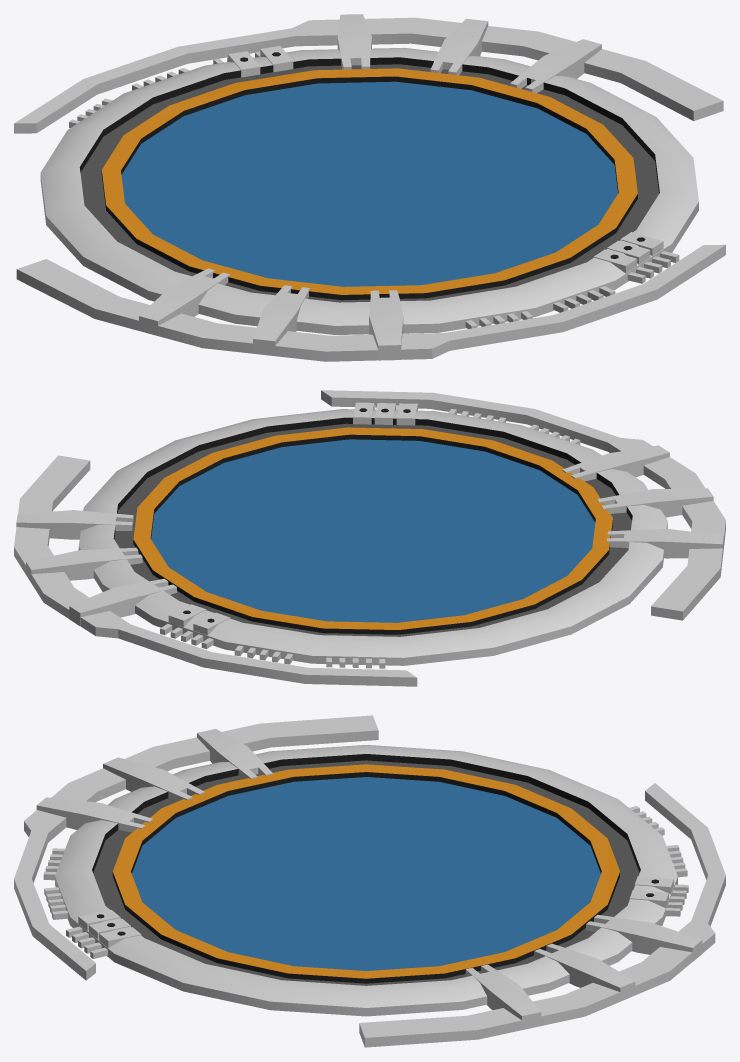
File: spawn_pad_asset.fbx
The picture shows the model from 3 angles, top to bottom: view 1: azimuth 30°, elevation 25°; view 2: azimuth 150°, elevation 25°; view 3: azimuth 270°, elevation 25°; orthographic projection. The views are drawn at different scales.
Visible parts, largest first — view 1: spawn_pad_asset1; view 2: spawn_pad_asset1; view 3: spawn_pad_asset1.
Part boxes in pixels (bbox=[...]): spawn_pad_asset1: bbox=[14, 14, 725, 361]; spawn_pad_asset1: bbox=[14, 390, 725, 686]; spawn_pad_asset1: bbox=[14, 715, 725, 1047].
Size of the model in its own units: 114 by 2.89 by 106.
